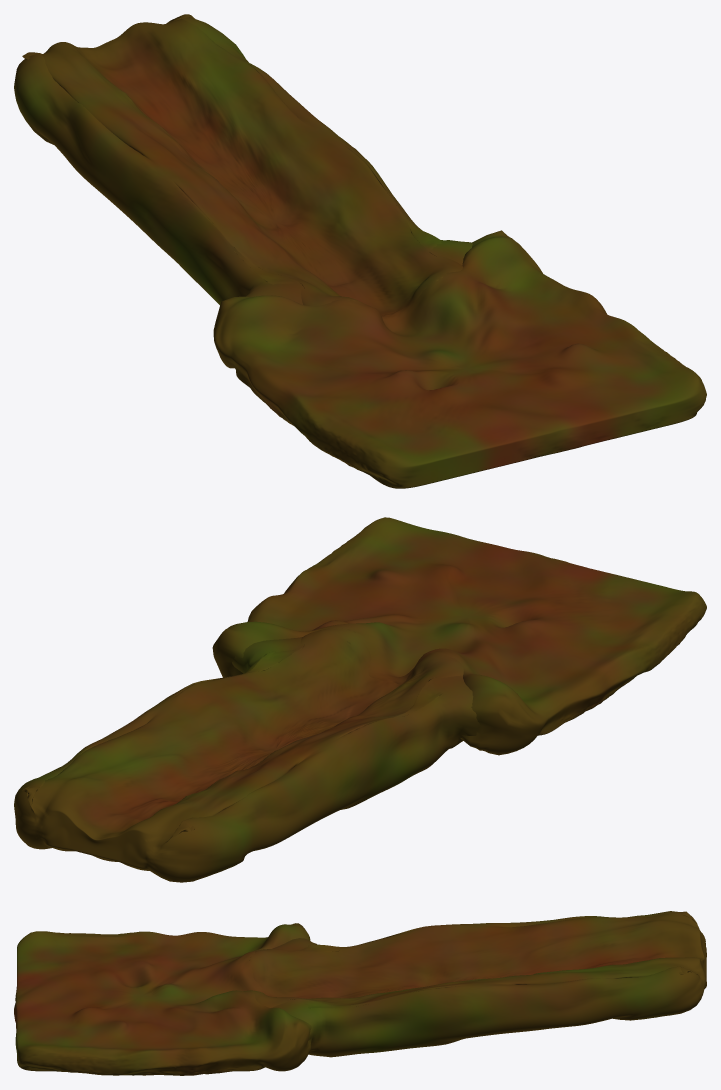
3 renders of one model, top to bottom at view 1: azimuth 30°, elevation 25°; view 2: azimuth 150°, elevation 25°; view 3: azimuth 270°, elevation 25°, orthographic. The views are drawn at different scales.
Visible parts, largest first — view 1: PM3D_Cube3D_1; view 2: PM3D_Cube3D_1; view 3: PM3D_Cube3D_1.
Part boxes in pixels (x1,y1,x2,y2): PM3D_Cube3D_1: [14, 14, 706, 488]; PM3D_Cube3D_1: [14, 517, 706, 882]; PM3D_Cube3D_1: [14, 911, 706, 1075].
Bounding box in the file's own units: 21.9 × 7.17 × 50.21.
